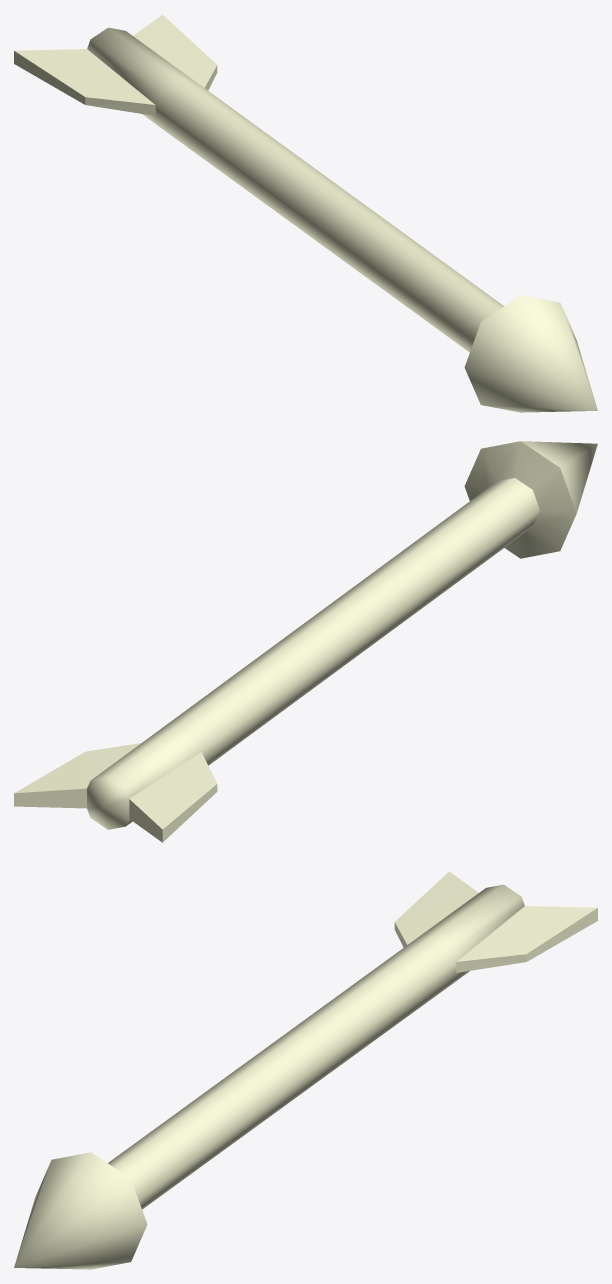
File: BallistaArrow.FBX
3 views of the same model, one above another, from view 1: azimuth 30°, elevation 25°; view 2: azimuth 150°, elevation 25°; view 3: azimuth 330°, elevation 25° (orthographic).
Visible parts, largest first — view 1: BallistaArrow; view 2: BallistaArrow; view 3: BallistaArrow.
Part boxes in pixels (x1=…): BallistaArrow: x1=14, y1=14, x2=597, y2=412; BallistaArrow: x1=14, y1=441, x2=597, y2=842; BallistaArrow: x1=14, y1=871, x2=597, y2=1269.
Bounding box in the file's own units: 26.11 × 19.72 × 155.
